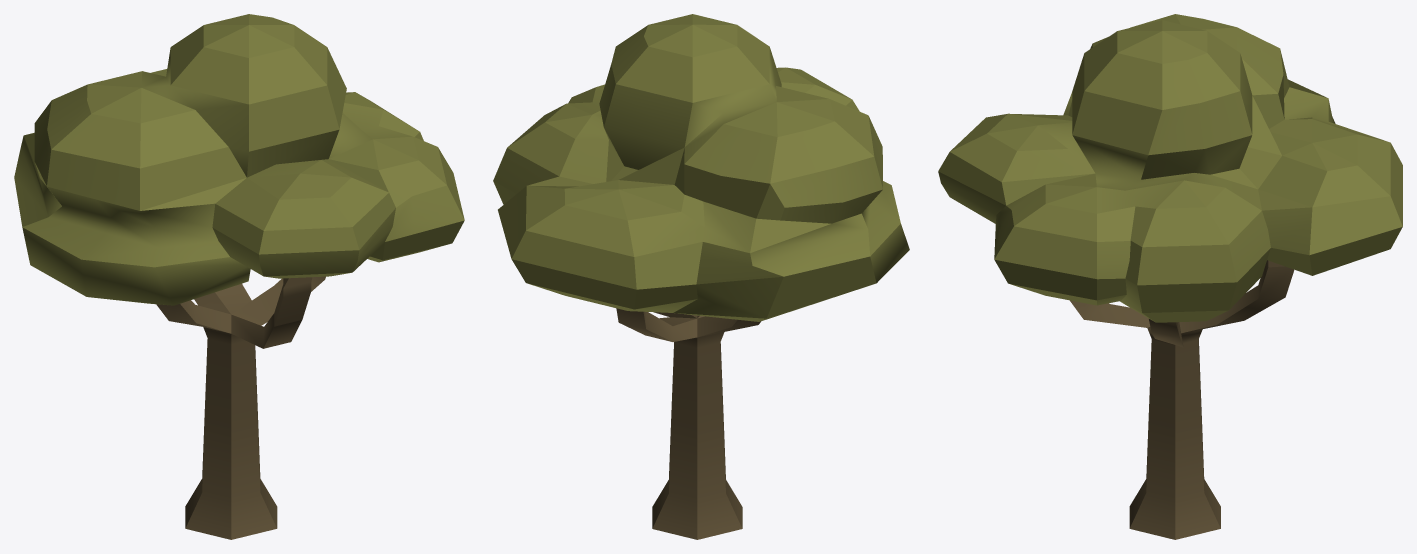
File: tree_green.fbx
The picture shows the model from 3 angles, left to right: view 1: azimuth 30°, elevation 25°; view 2: azimuth 150°, elevation 25°; view 3: azimuth 270°, elevation 25°; orthographic projection.
Parts seen in each view (by area): view 1: tree_green; view 2: tree_green; view 3: tree_green.
Boxes of the visible parts, x1,y1,x2,y2 form: tree_green: (14, 14, 464, 539); tree_green: (493, 14, 909, 539); tree_green: (938, 14, 1402, 539).
Bounding box in the file's own units: 45.1 × 56.74 × 48.56.
